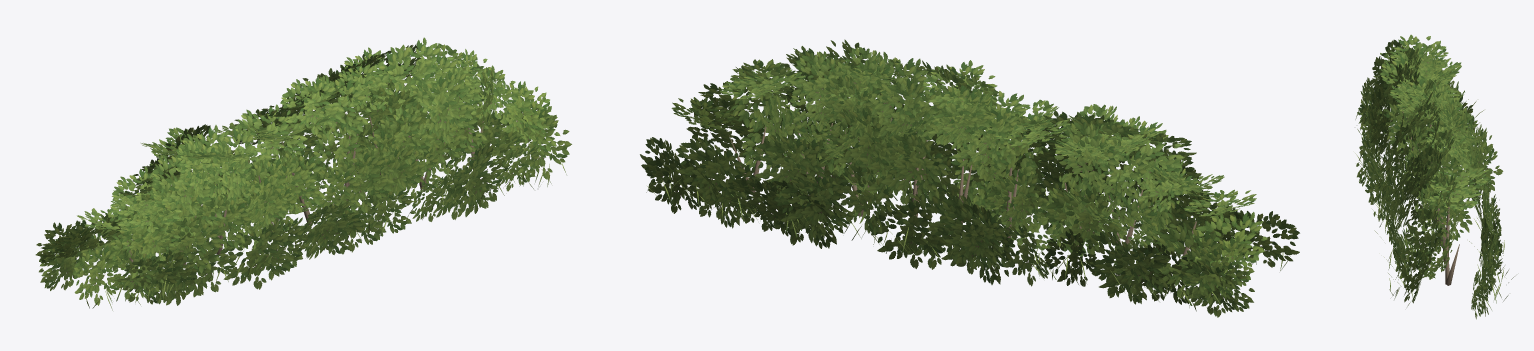
File: eco_hedgerow_LOD1.glb
3 views of the same model, side by side, from view 1: azimuth 30°, elevation 25°; view 2: azimuth 150°, elevation 25°; view 3: azimuth 270°, elevation 25° (orthographic). The views are drawn at different scales.
Visible parts, largest first — view 1: eco_hedgerow_LOD1; view 2: eco_hedgerow_LOD1; view 3: eco_hedgerow_LOD1.
Boxes of the visible parts, x1=… form: eco_hedgerow_LOD1: x1=35, y1=37, x2=571, y2=310; eco_hedgerow_LOD1: x1=640, y1=39, x2=1299, y2=317; eco_hedgerow_LOD1: x1=1355, y1=34, x2=1514, y2=319.
Size of the model in its own units: 5.02 by 1.86 by 1.54.
2 materials, 1 textured.
